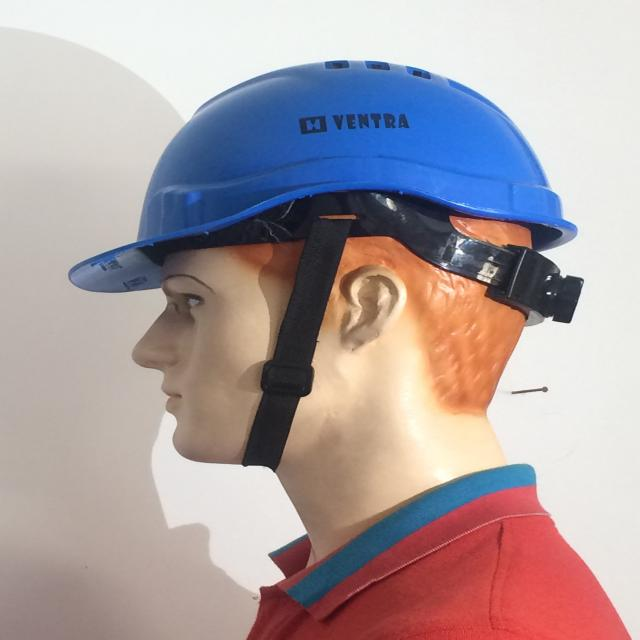Safety-Helmet: (71, 58, 590, 290)
